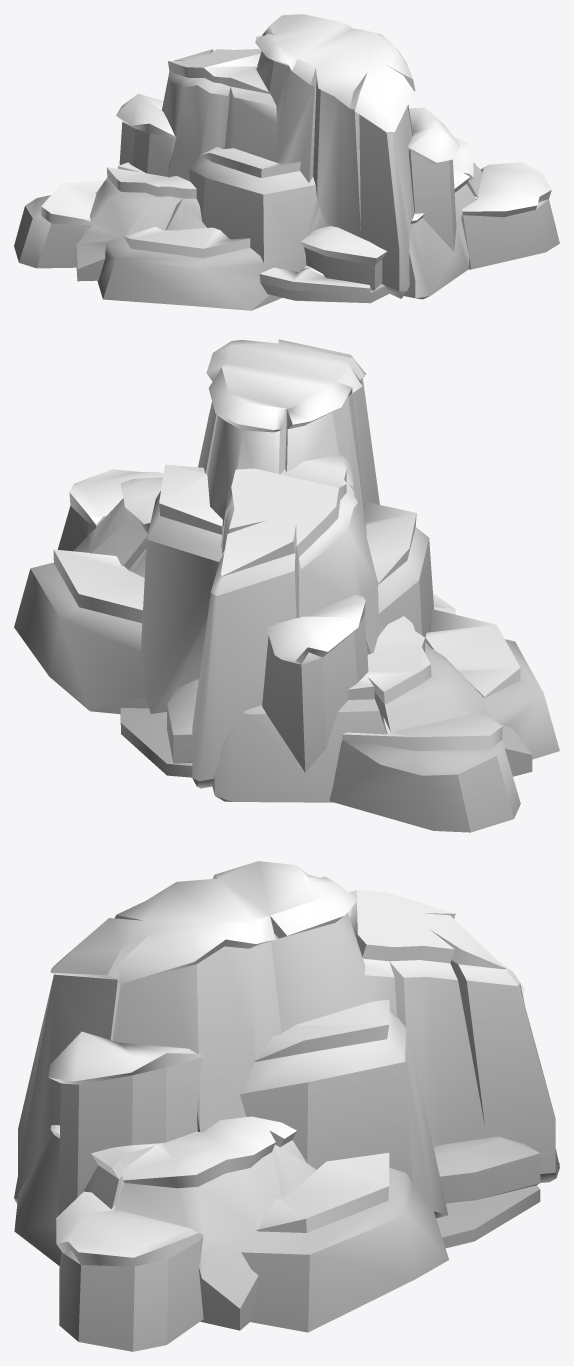
File: Rock_6.fbx
The picture shows the model from 3 angles, top to bottom: view 1: azimuth 30°, elevation 25°; view 2: azimuth 150°, elevation 25°; view 3: azimuth 270°, elevation 25°; orthographic projection. The views are drawn at different scales.
Parts seen in each view (by area): view 1: Rock_6, Rock_6_Snow; view 2: Rock_6, Rock_6_Snow; view 3: Rock_6, Rock_6_Snow.
Boxes of the visible parts, bbox=[...] form: Rock_6: bbox=[14, 51, 559, 310]; Rock_6_Snow: bbox=[41, 14, 551, 292]; Rock_6: bbox=[14, 378, 559, 832]; Rock_6_Snow: bbox=[53, 339, 520, 750]; Rock_6: bbox=[14, 912, 559, 1351]; Rock_6_Snow: bbox=[48, 861, 524, 1266].
Size of the model in its own units: 10.3 by 5.04 by 7.52.
